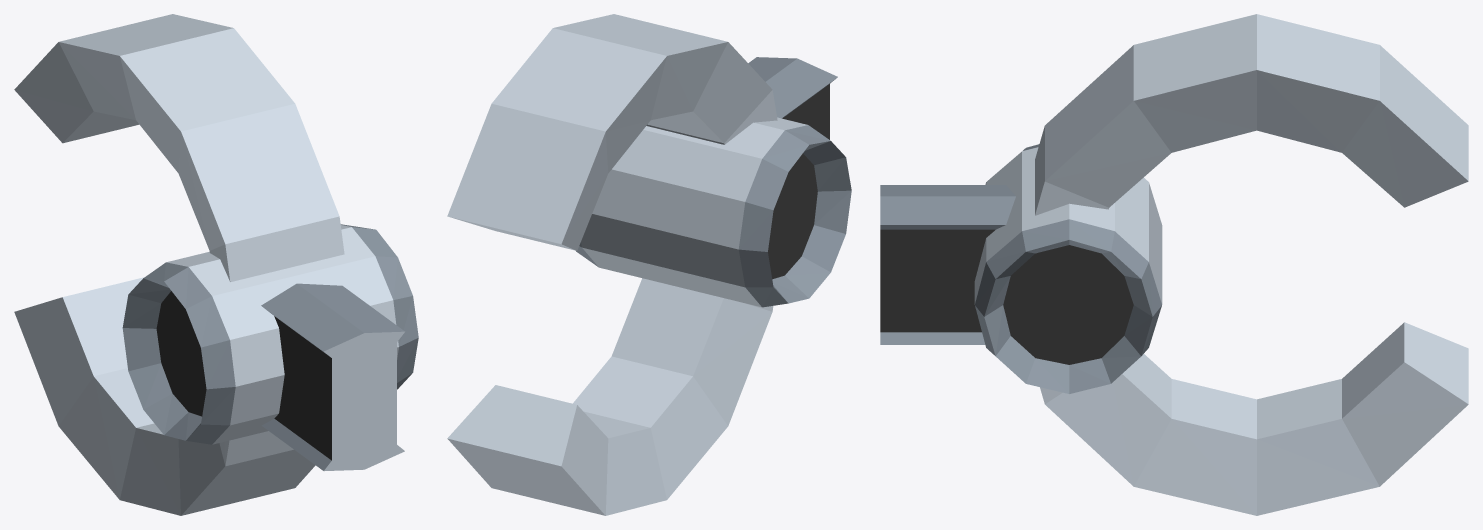
File: Hand.FBX
The picture shows the model from 3 angles, left to right: view 1: azimuth 30°, elevation 25°; view 2: azimuth 150°, elevation 25°; view 3: azimuth 270°, elevation 25°; orthographic projection.
Visible parts, largest first — view 1: VIFS002, VIFS001, VIFS003; view 2: VIFS002, VIFS001, VIFS003; view 3: VIFS002, VIFS003, VIFS001.
Part boxes in pixels (x1,y1,x2,y2): VIFS002: [14, 14, 404, 515]; VIFS001: [122, 224, 418, 470]; VIFS003: [156, 291, 331, 460]; VIFS002: [447, 14, 807, 515]; VIFS001: [576, 57, 851, 307]; VIFS003: [768, 84, 829, 279]; VIFS002: [974, 14, 1468, 515]; VIFS003: [880, 229, 1133, 364]; VIFS001: [880, 144, 1161, 393].
Bounding box in the file's own units: 0.13 × 0.26 × 0.311.
